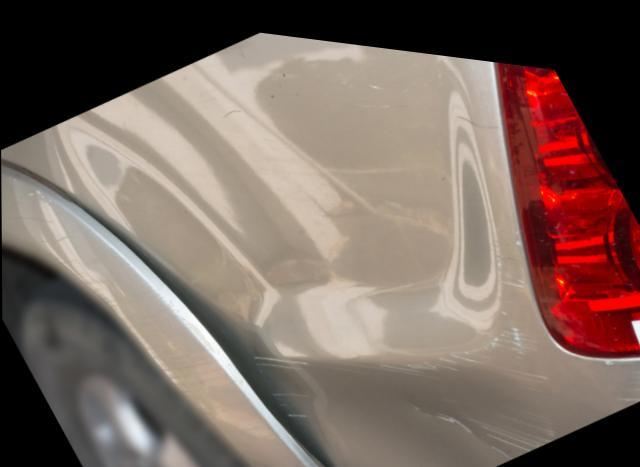dent: (285, 343, 556, 467)
scratch: (26, 192, 318, 467), (485, 215, 555, 382), (613, 344, 640, 394)
